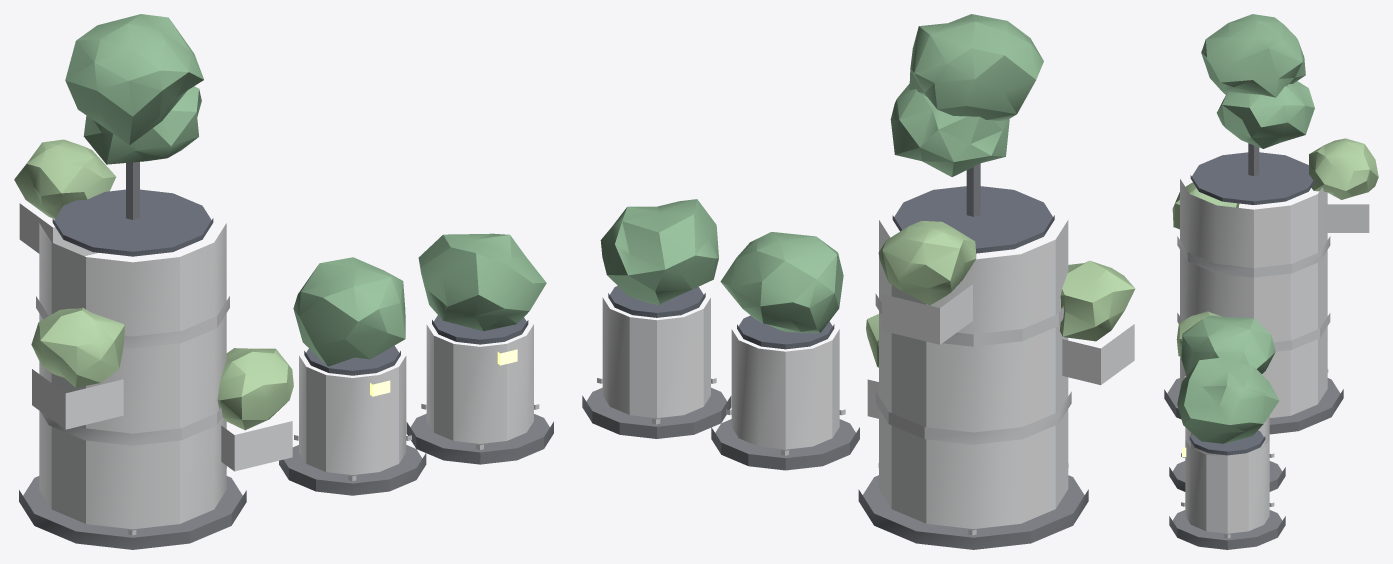
File: iter_04.glb
3 renders of one model, left to right at view 1: azimuth 30°, elevation 25°; view 2: azimuth 150°, elevation 25°; view 3: azimuth 270°, elevation 25°, orthographic. The views are drawn at different scales.
Parts seen in each view (by area): view 1: Column, Foliage, Pots, Foliage_Light, Clamp_Rings, Grow_Lids, Pockets, Column_Bands, Stems; view 2: Column, Foliage, Pots, Clamp_Rings, Foliage_Light, Grow_Lids, Pockets, Column_Bands, Stems; view 3: Foliage, Column, Pots, Grow_Lids, Clamp_Rings, Foliage_Light, Column_Bands, Pockets, Stems.
Part boxes in pixels (x1,y1,x2,y2): Column: [39, 223, 226, 529]; Foliage: [65, 14, 546, 366]; Pots: [299, 324, 533, 474]; Foliage_Light: [14, 139, 293, 430]; Clamp_Rings: [19, 413, 553, 549]; Grow_Lids: [52, 189, 528, 375]; Pockets: [19, 203, 292, 471]; Column_Bands: [36, 296, 229, 445]; Stems: [126, 162, 139, 219]; Column: [879, 220, 1068, 528]; Foliage: [600, 14, 1043, 332]; Pots: [602, 297, 839, 449]; Clamp_Rings: [582, 387, 1088, 549]; Foliage_Light: [866, 221, 1135, 367]; Grow_Lids: [608, 186, 1054, 349]; Pockets: [867, 284, 1134, 418]; Column_Bands: [875, 293, 1071, 444]; Stems: [966, 163, 980, 216]; Foliage: [1177, 14, 1314, 443]; Column: [1180, 179, 1327, 417]; Pots: [1185, 415, 1269, 533]; Grow_Lids: [1189, 152, 1314, 455]; Clamp_Rings: [1164, 378, 1343, 549]; Foliage_Light: [1172, 138, 1378, 357]; Column_Bands: [1177, 236, 1330, 351]; Pockets: [1184, 204, 1369, 377]; Stems: [1248, 143, 1259, 176].
Size of the model in its own units: 0.8981 by 0.787 by 0.4068.
